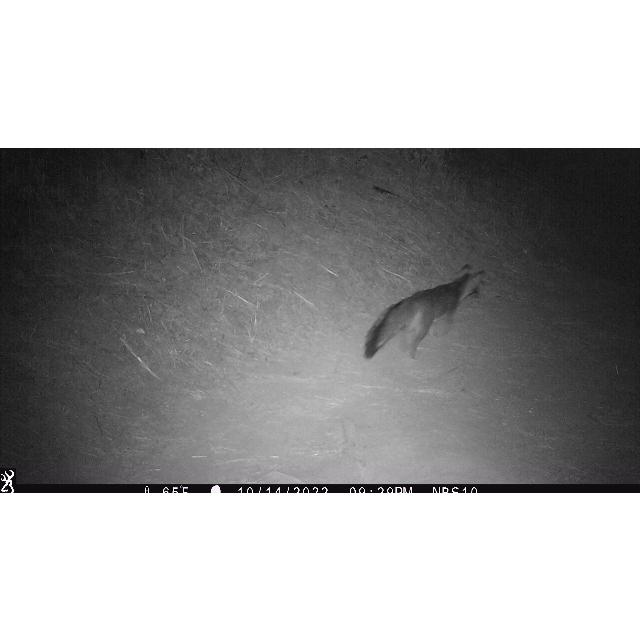animals: (364, 261, 486, 361)
